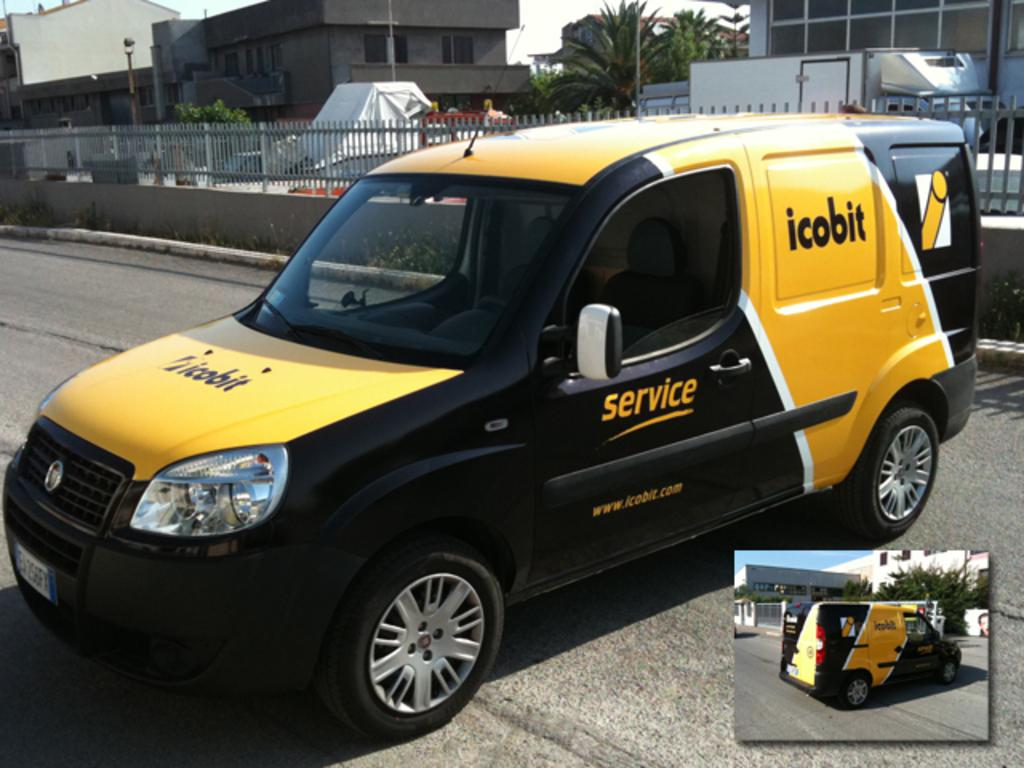taxi: (3, 24, 986, 746)
